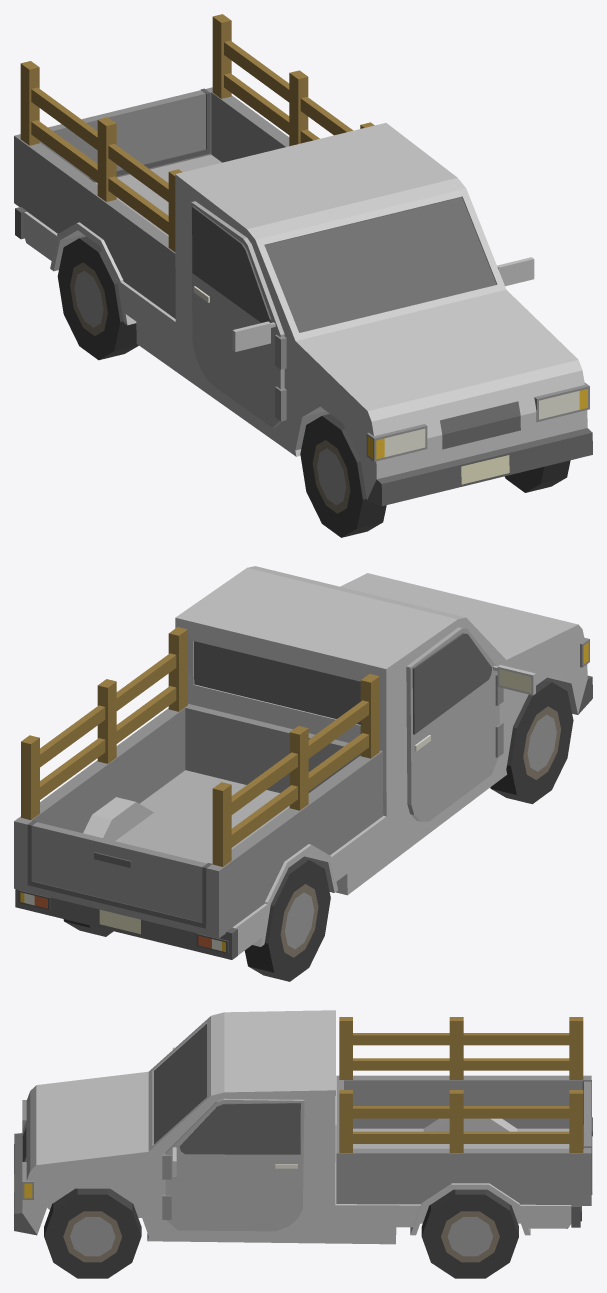
Rendered from kar3.fbx.
The picture shows the model from 3 angles, top to bottom: view 1: azimuth 30°, elevation 25°; view 2: azimuth 150°, elevation 25°; view 3: azimuth 270°, elevation 25°; orthographic projection. The views are drawn at different scales.
Parts seen in each view (by area): view 1: Cube_1, Cylinder_2, Cylinder, Cylinder_4; view 2: Cube_1, Cylinder, Cylinder_2; view 3: Cube_1, Cylinder_4, Cylinder_5.
Part boxes in pixels (x1,y1,x2,y2): Cube_1: (14, 14, 592, 506); Cylinder_2: (300, 414, 386, 537); Cylinder: (57, 236, 138, 360); Cylinder_4: (504, 460, 570, 492); Cube_1: (14, 566, 592, 959); Cylinder: (244, 858, 330, 981); Cylinder_2: (490, 680, 573, 804); Cube_1: (14, 1010, 592, 1244); Cylinder_4: (44, 1188, 141, 1278); Cylinder_5: (421, 1189, 518, 1278).
Size of the model in its own units: 213 by 165 by 458.
